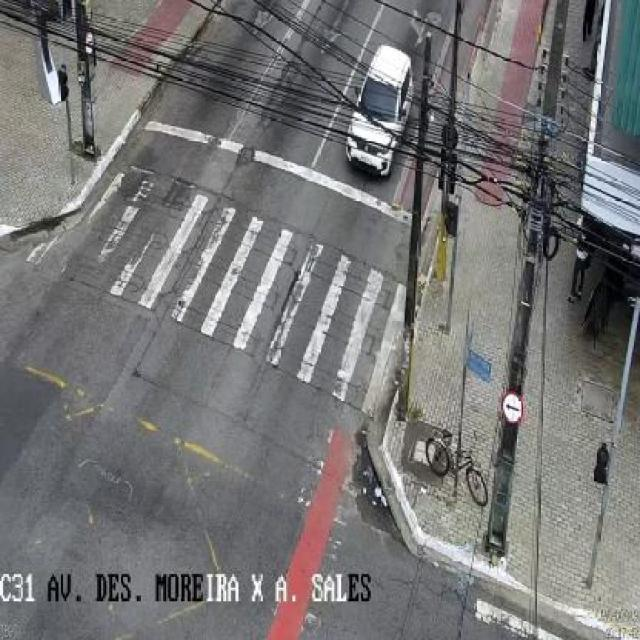Car: (345, 44, 415, 176)
Cycle: (423, 428, 491, 506)
